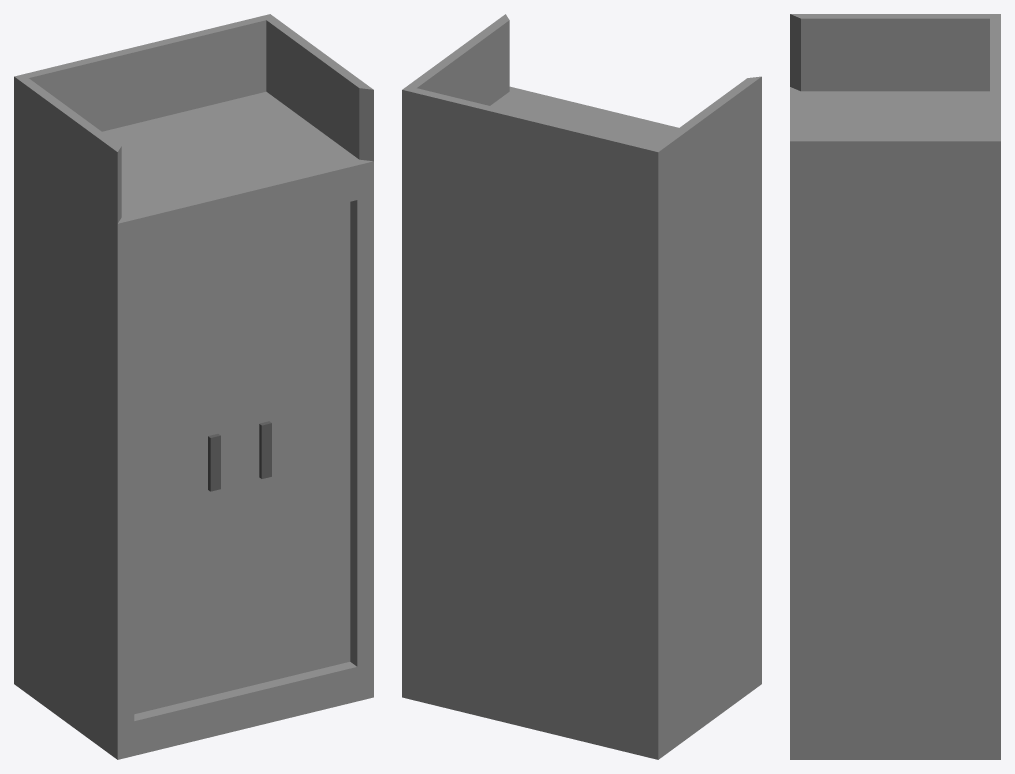
The model's file is locker.glb.
3 views of the same model, side by side, from view 1: azimuth 30°, elevation 25°; view 2: azimuth 150°, elevation 25°; view 3: azimuth 270°, elevation 25° (orthographic).
Parts seen in each view (by area): view 1: Body-col, Handle-col; view 2: Body-col; view 3: Body-col.
Part boxes in pixels (x1,y1,x2,y2): Body-col: (14, 14, 373, 759); Handle-col: (208, 421, 271, 491); Body-col: (402, 14, 761, 759); Body-col: (790, 14, 1000, 759).
Size of the model in its own units: 1 by 2.27 by 0.7.
Materials: 1 (1 with a texture image).
